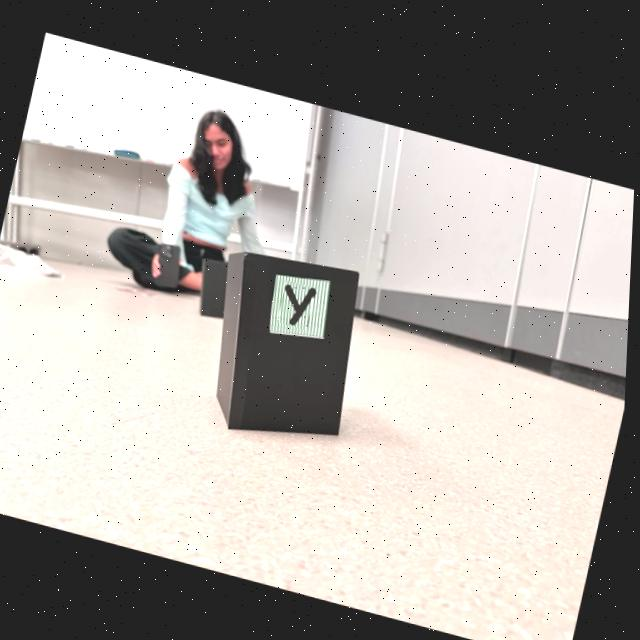Y: (287, 280, 318, 321)
